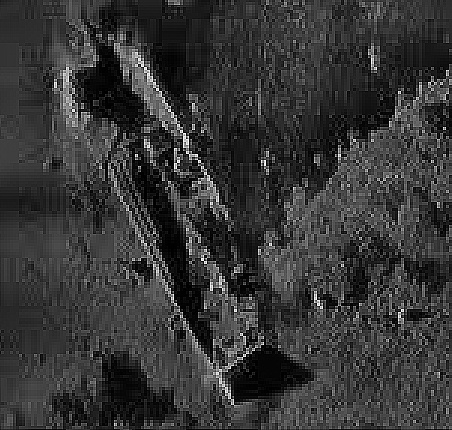ship: (65, 31, 269, 385)
